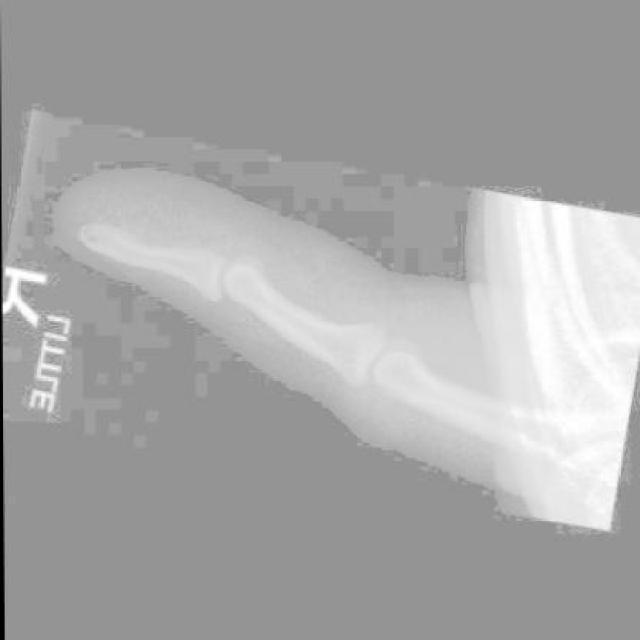Fracture: (118, 225, 168, 279)
